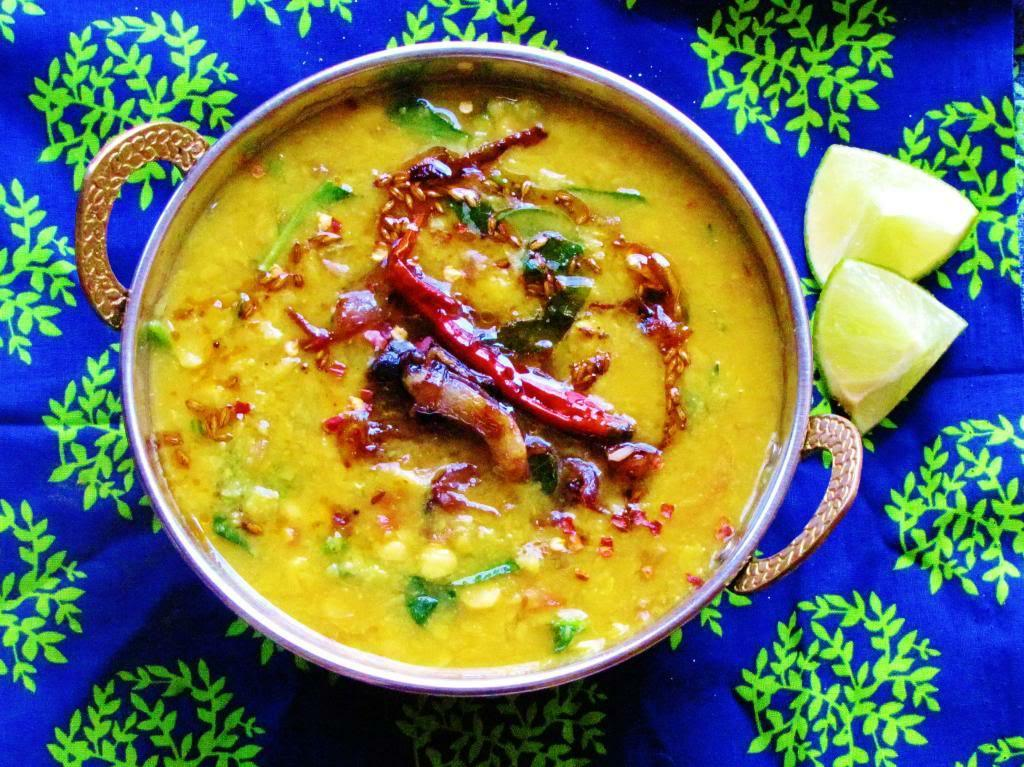Dal: (149, 75, 783, 668)
